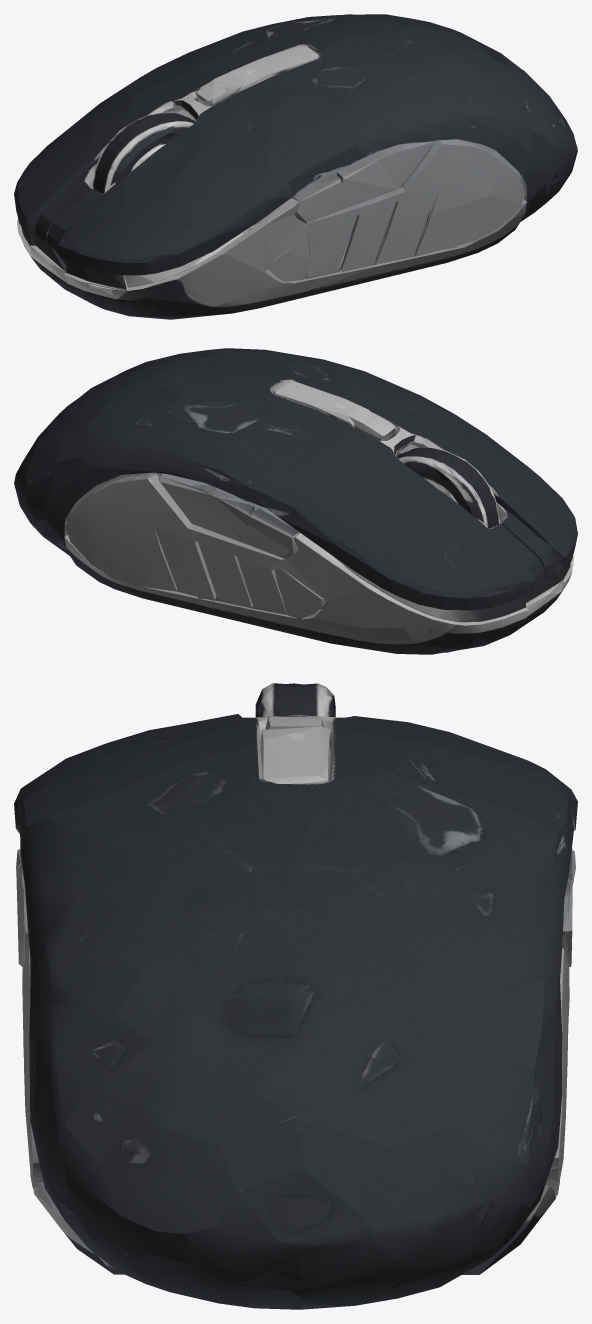
The model's file is Mouse.fbx.
3 renders of one model, top to bottom at view 1: azimuth 30°, elevation 25°; view 2: azimuth 150°, elevation 25°; view 3: azimuth 270°, elevation 25°, orthographic. The views are drawn at different scales.
Parts seen in each view (by area): view 1: Meshy_Remeshed; view 2: Meshy_Remeshed; view 3: Meshy_Remeshed.
Boxes of the visible parts, bbox=[...] form: Meshy_Remeshed: bbox=[14, 14, 577, 319]; Meshy_Remeshed: bbox=[14, 348, 577, 654]; Meshy_Remeshed: bbox=[14, 683, 577, 1309].
Size of the model in its own units: 190 by 66.44 by 95.71.
1 material, 1 textured.
